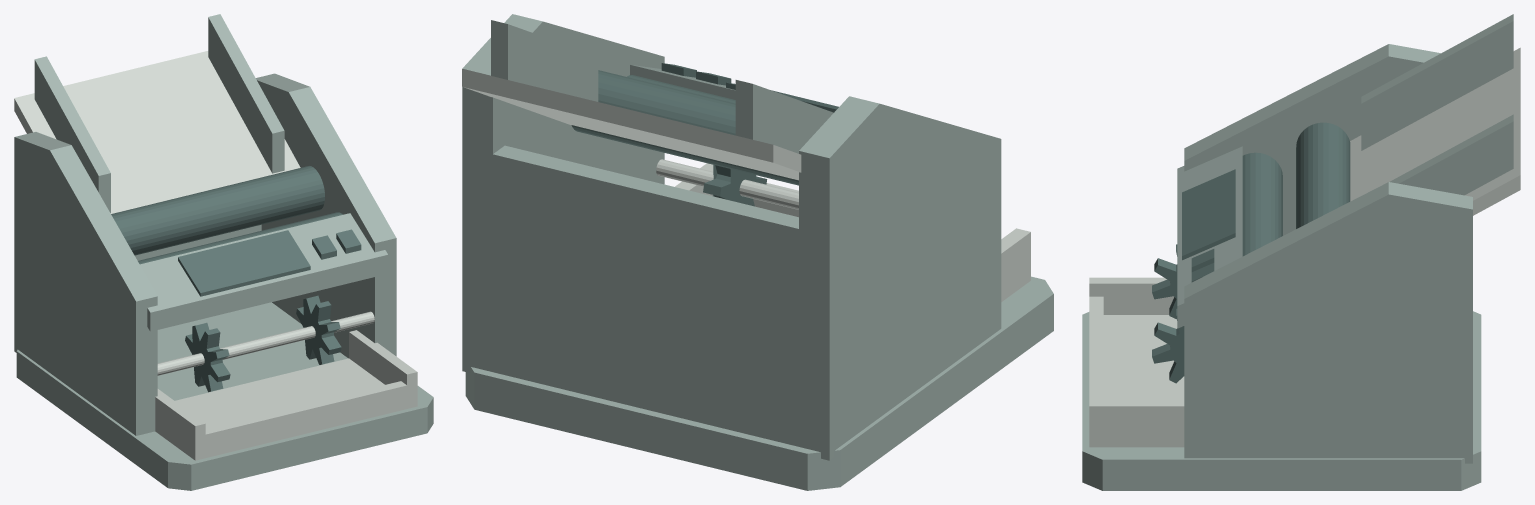
3 renders of one model, left to right at view 1: azimuth 30°, elevation 25°; view 2: azimuth 150°, elevation 25°; view 3: azimuth 270°, elevation 25°, orthographic. The views are drawn at different scales.
Parts seen in each view (by area): view 1: WholeShapedSideCheek_-1, WholeInclinedOpenFeedHopper, WholeCommonCounterBase, WholeOpenFrontReceivingTray, WholeShapedSideCheek_1, WholeSlopingControlBridge, WholeExposedFeedRoller_0, WholeBlankOpaqueControlPanel, WholeFiniteHopperSideGuide_1, WholeFiniteHopperSideGuide_-1, WholeTransverseStackerShaft, WholeFiniteStackerWheel_1 (+3 smaller); view 2: WholeRearHousingWall, WholeShapedSideCheek_-1, WholeCommonCounterBase, WholeShapedSideCheek_1, WholeInclinedOpenFeedHopper, WholeExposedFeedRoller_0, WholeFiniteHopperSideGuide_1, WholeFiniteHopperSideGuide_-1, WholeOpenFrontReceivingTray, WholeTransverseStackerShaft, WholeFiniteStackerWheel_1, WholeSlopingControlBridge; view 3: WholeShapedSideCheek_1, WholeCommonCounterBase, WholeOpenFrontReceivingTray, WholeShapedSideCheek_-1, WholeInclinedOpenFeedHopper, WholeFiniteHopperSideGuide_-1, WholeExposedFeedRoller_0, WholeFiniteHopperSideGuide_1, WholeSlopingControlBridge, WholeExposedFeedRoller_1, WholeBlankOpaqueControlPanel, WholeFiniteStackerWheel_1 (+1 smaller).
Boxes of the visible parts, x1=… form: WholeShapedSideCheek_-1: x1=14, y1=132, x2=157, y2=435; WholeInclinedOpenFeedHopper: x1=14, y1=51, x2=300, y2=213; WholeCommonCounterBase: x1=16, y1=302, x2=433, y2=490; WholeOpenFrontReceivingTray: x1=155, y1=330, x2=417, y2=460; WholeShapedSideCheek_1: x1=256, y1=73, x2=396, y2=358; WholeSlopingControlBridge: x1=140, y1=213, x2=388, y2=331; WholeExposedFeedRoller_0: x1=111, y1=166, x2=324, y2=255; WholeBlankOpaqueControlPanel: x1=178, y1=230, x2=310, y2=296; WholeFiniteHopperSideGuide_1: x1=208, y1=14, x2=284, y2=173; WholeFiniteHopperSideGuide_-1: x1=34, y1=56, x2=110, y2=212; WholeTransverseStackerShaft: x1=157, y1=311, x2=374, y2=375; WholeFiniteStackerWheel_1: x1=296, y1=295, x2=341, y2=364; WholeRearHousingWall: x1=489, y1=145, x2=802, y2=446; WholeShapedSideCheek_-1: x1=799, y1=96, x2=1001, y2=460; WholeCommonCounterBase: x1=465, y1=276, x2=1053, y2=490; WholeShapedSideCheek_1: x1=462, y1=14, x2=664, y2=372; WholeInclinedOpenFeedHopper: x1=462, y1=69, x2=801, y2=180; WholeExposedFeedRoller_0: x1=571, y1=70, x2=798, y2=185; WholeFiniteHopperSideGuide_1: x1=491, y1=20, x2=598, y2=101; WholeFiniteHopperSideGuide_-1: x1=735, y1=80, x2=833, y2=153; WholeOpenFrontReceivingTray: x1=675, y1=163, x2=1030, y2=301; WholeTransverseStackerShaft: x1=656, y1=159, x2=798, y2=209; WholeFiniteStackerWheel_1: x1=703, y1=165, x2=767, y2=206; WholeSlopingControlBridge: x1=630, y1=64, x2=735, y2=99; WholeShapedSideCheek_1: x1=1184, y1=182, x2=1472, y2=463; WholeCommonCounterBase: x1=1082, y1=311, x2=1481, y2=490; WholeOpenFrontReceivingTray: x1=1089, y1=277, x2=1184, y2=447; WholeShapedSideCheek_-1: x1=1184, y1=44, x2=1440, y2=235; WholeInclinedOpenFeedHopper: x1=1350, y1=47, x2=1520, y2=215; WholeFiniteHopperSideGuide_-1: x1=1361, y1=14, x2=1513, y2=150; WholeExposedFeedRoller_0: x1=1296, y1=122, x2=1350, y2=228; WholeFiniteHopperSideGuide_1: x1=1390, y1=114, x2=1513, y2=195; WholeSlopingControlBridge: x1=1177, y1=146, x2=1242, y2=328; WholeExposedFeedRoller_1: x1=1242, y1=152, x2=1282, y2=256; WholeBlankOpaqueControlPanel: x1=1182, y1=169, x2=1235, y2=260; WholeFiniteStackerWheel_1: x1=1152, y1=308, x2=1184, y2=383.
Size of the model in its own units: 0.306 by 0.3218 by 0.369.
